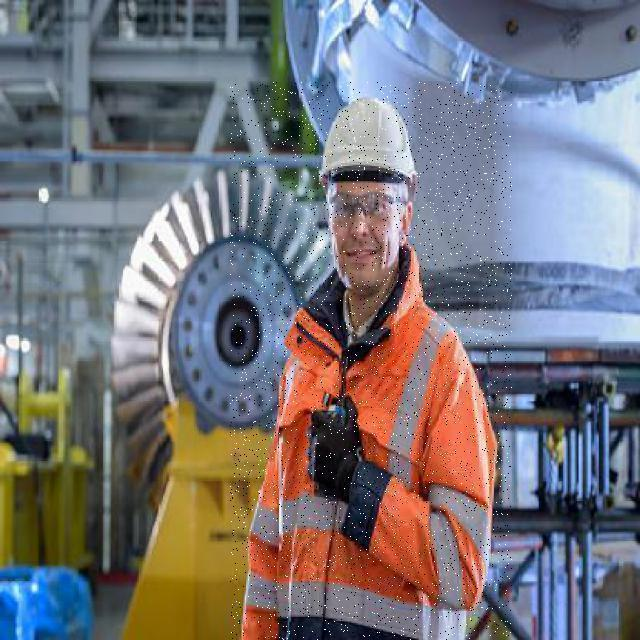goggles: (323, 189, 409, 220)
helmet: (318, 93, 419, 189)
safety_vest: (241, 243, 496, 640)
